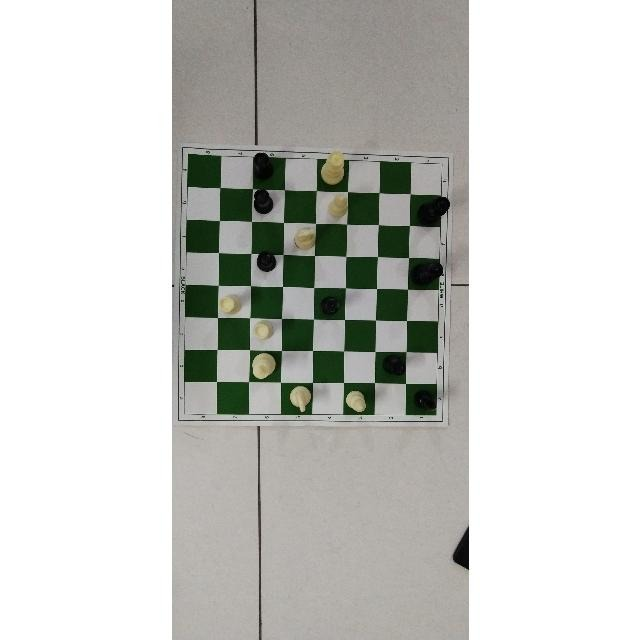black-bishop: (411, 389, 437, 412), (318, 296, 341, 318)
black-king: (411, 261, 442, 287)
black-queen: (415, 197, 449, 225)
black-rook: (251, 150, 274, 181), (250, 188, 273, 215), (382, 353, 406, 376), (253, 251, 276, 273)
white-bishop: (327, 193, 347, 218), (345, 390, 365, 413)
white-king: (250, 352, 276, 379)
white-knight: (286, 387, 311, 413), (294, 227, 316, 251)
white-queen: (320, 151, 345, 186)
white-rook: (217, 293, 240, 315), (252, 320, 273, 342)
